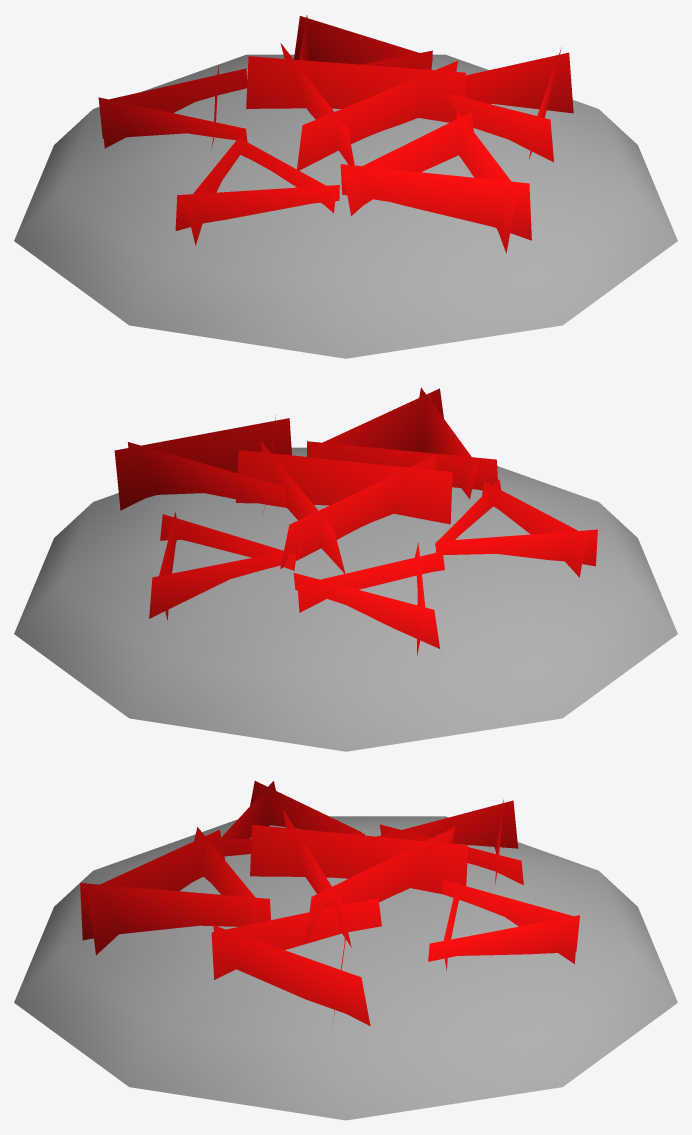
The model's file is SW2_GrassPatch.fbx.
3 renders of one model, top to bottom at view 1: azimuth 30°, elevation 25°; view 2: azimuth 150°, elevation 25°; view 3: azimuth 270°, elevation 25°, orthographic.
Visible parts, largest first — view 1: GrassNormal, SW2_GrassPatch; view 2: GrassNormal, SW2_GrassPatch; view 3: GrassNormal, SW2_GrassPatch.
Boxes of the visible parts, box(x1,y1,x2,y2) form: GrassNormal: box(14, 54, 677, 358); SW2_GrassPatch: box(98, 15, 573, 253); GrassNormal: box(14, 447, 677, 751); SW2_GrassPatch: box(114, 387, 597, 655); GrassNormal: box(14, 816, 677, 1120); SW2_GrassPatch: box(80, 781, 579, 1026).
Bounding box in the file's own units: 3.26 × 0.7358 × 3.31.
